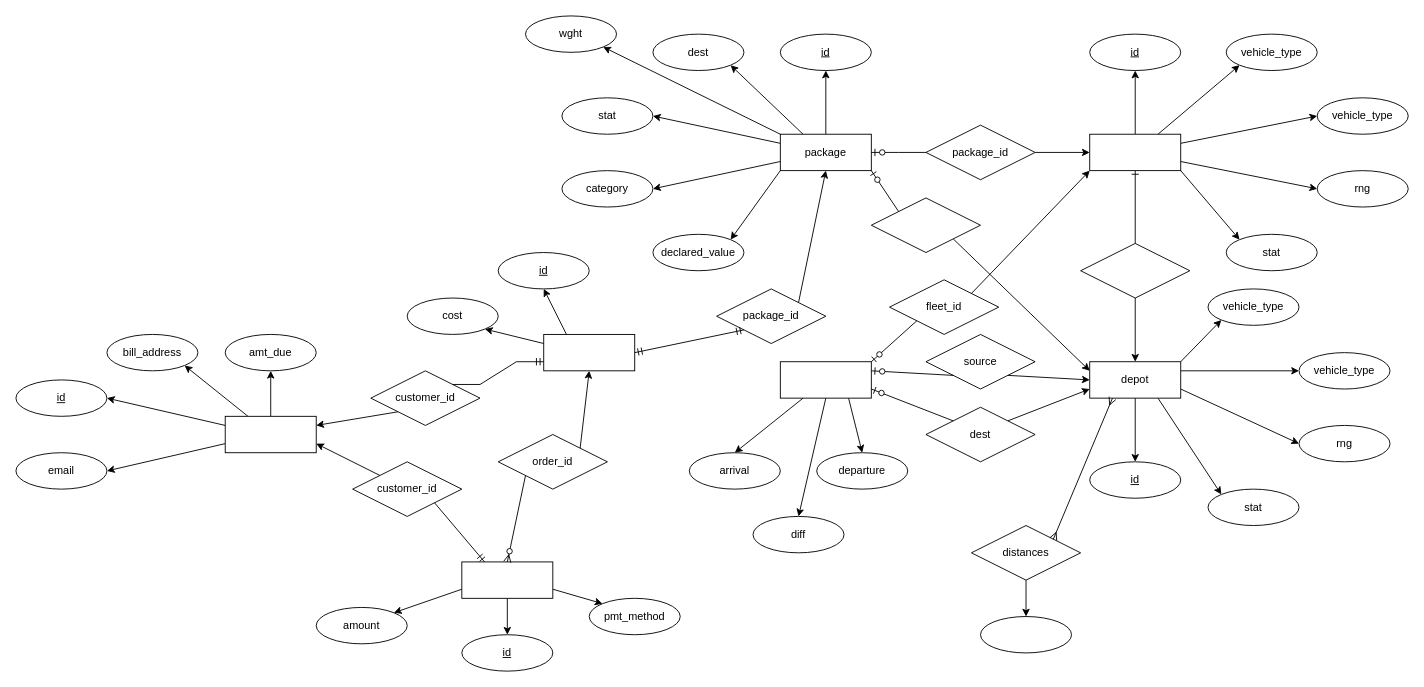
The diagram is 1424 pixels wide and 687 high, and some of its shapes have lost their labels. Here are the shapes that lost their labels. From the top down, the centre of each, then its label:
[1135,152]: fleet
[925,225]: depot_id
[1135,270]: destination
[589,352]: orders
[825,379]: timetable
[270,434]: customers
[507,579]: transactions
[1026,634]: distance
